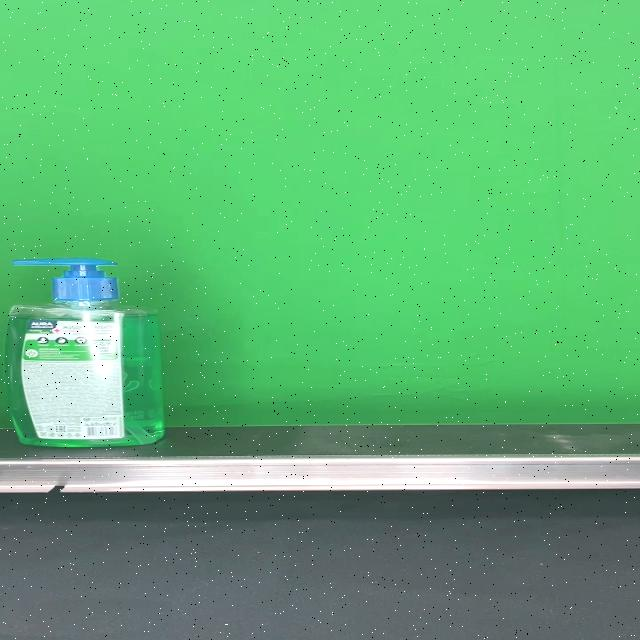Bottle: (4, 258, 166, 447)
Cap: (11, 258, 116, 300)
